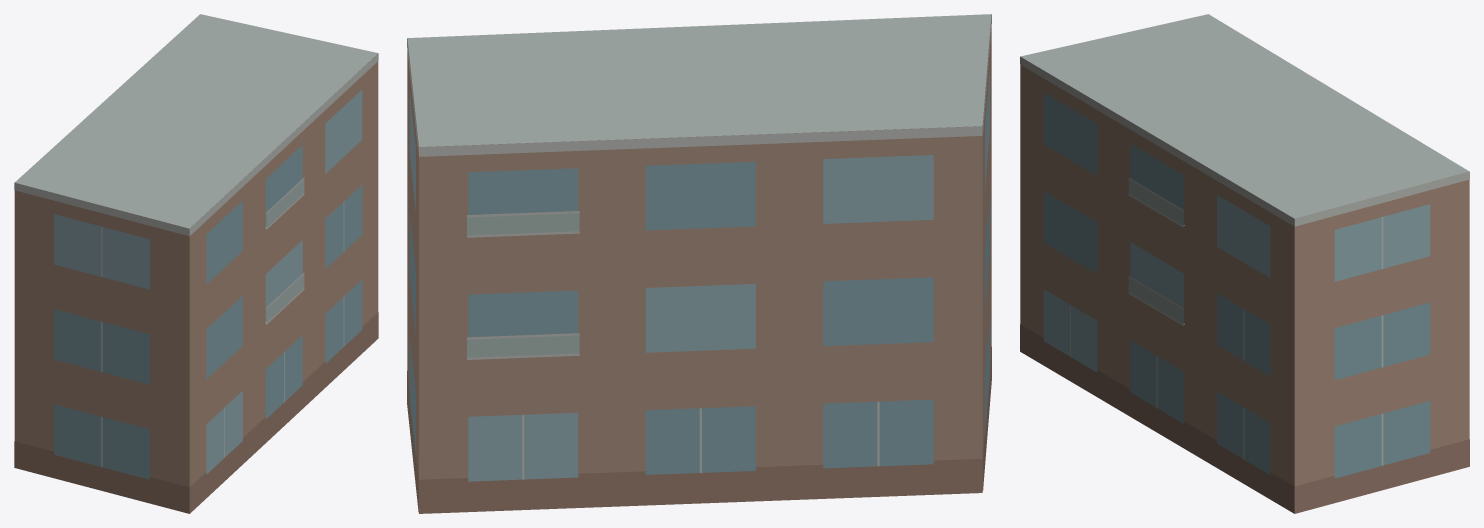
File: survey-upis-32733142.glb
3 views of the same model, side by side, from view 1: azimuth 30°, elevation 25°; view 2: azimuth 150°, elevation 25°; view 3: azimuth 270°, elevation 25° (orthographic). The views are drawn at different scales.
Visible parts, largest first — view 1: survey-upis-32733142.tmp; view 2: survey-upis-32733142.tmp; view 3: survey-upis-32733142.tmp.
Boxes of the visible parts, box(x1,y1,x2,y2) form: survey-upis-32733142.tmp: box(14, 14, 378, 513); survey-upis-32733142.tmp: box(407, 14, 991, 513); survey-upis-32733142.tmp: box(1020, 14, 1469, 513).
Bounding box in the file's own units: 13.63 × 9.15 × 12.65.
